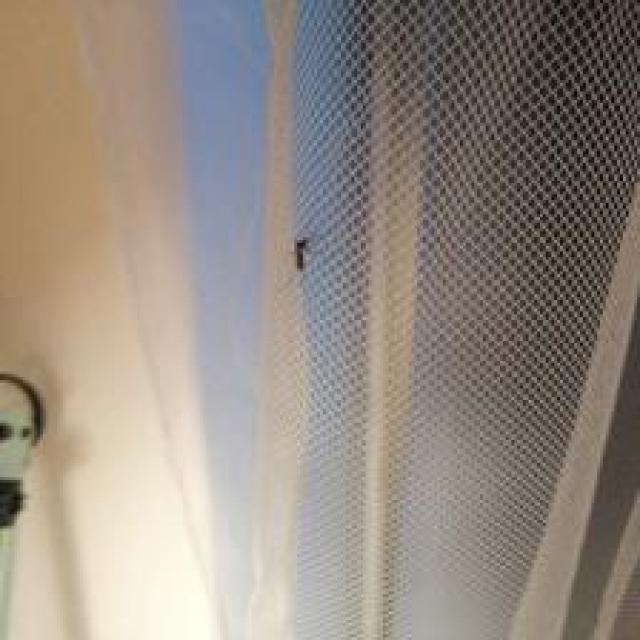Culex: (0, 371, 46, 640)
